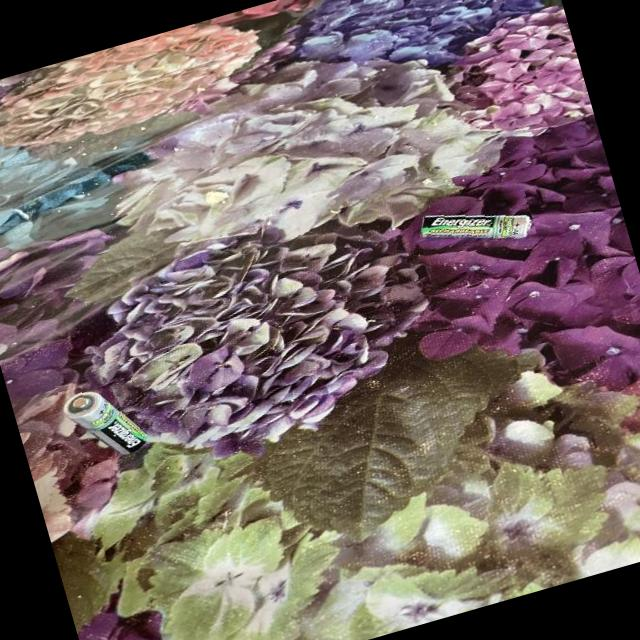Hazard: (412, 183, 536, 264), (58, 372, 151, 467)
